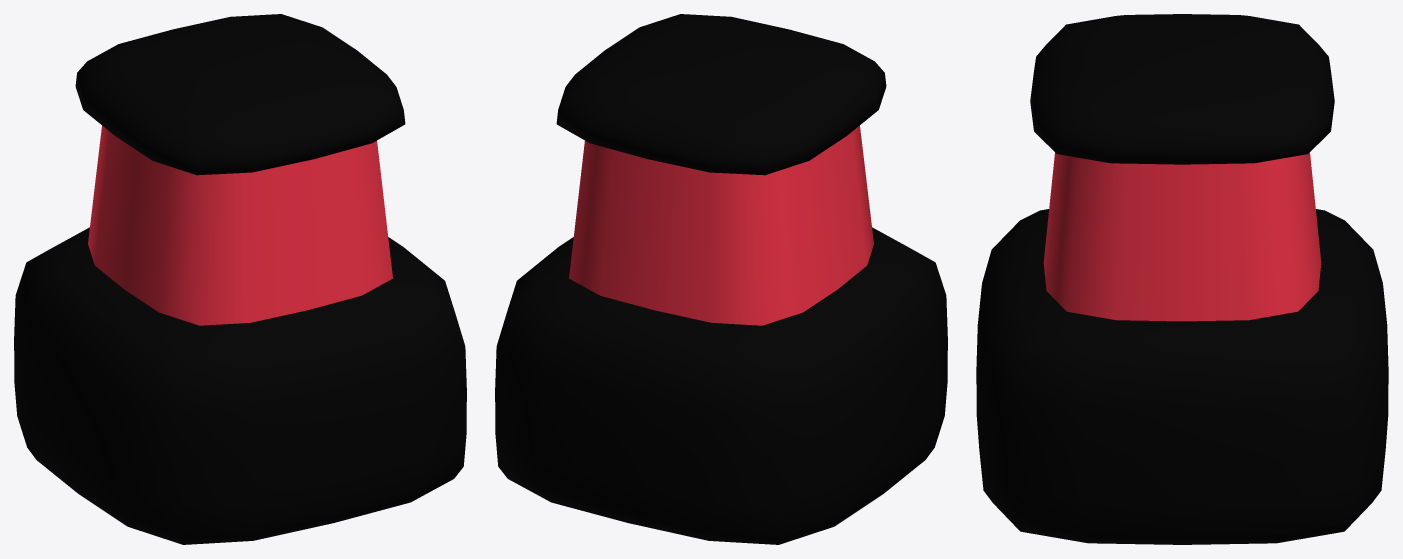
The picture shows the model from 3 angles, left to right: view 1: azimuth 30°, elevation 25°; view 2: azimuth 150°, elevation 25°; view 3: azimuth 270°, elevation 25°; orthographic projection. The views are drawn at different scales.
Parts seen in each view (by area): view 1: Lidar_glass.001; view 2: Lidar_glass.001; view 3: Lidar_glass.001.
Boxes of the visible parts, left/top/right/bottom form: Lidar_glass.001: left=14, top=14, right=466, bottom=544; Lidar_glass.001: left=495, top=14, right=947, bottom=544; Lidar_glass.001: left=976, top=14, right=1388, bottom=544.
Bounding box in the file's own units: 0.106 × 0.106 × 0.1166.
